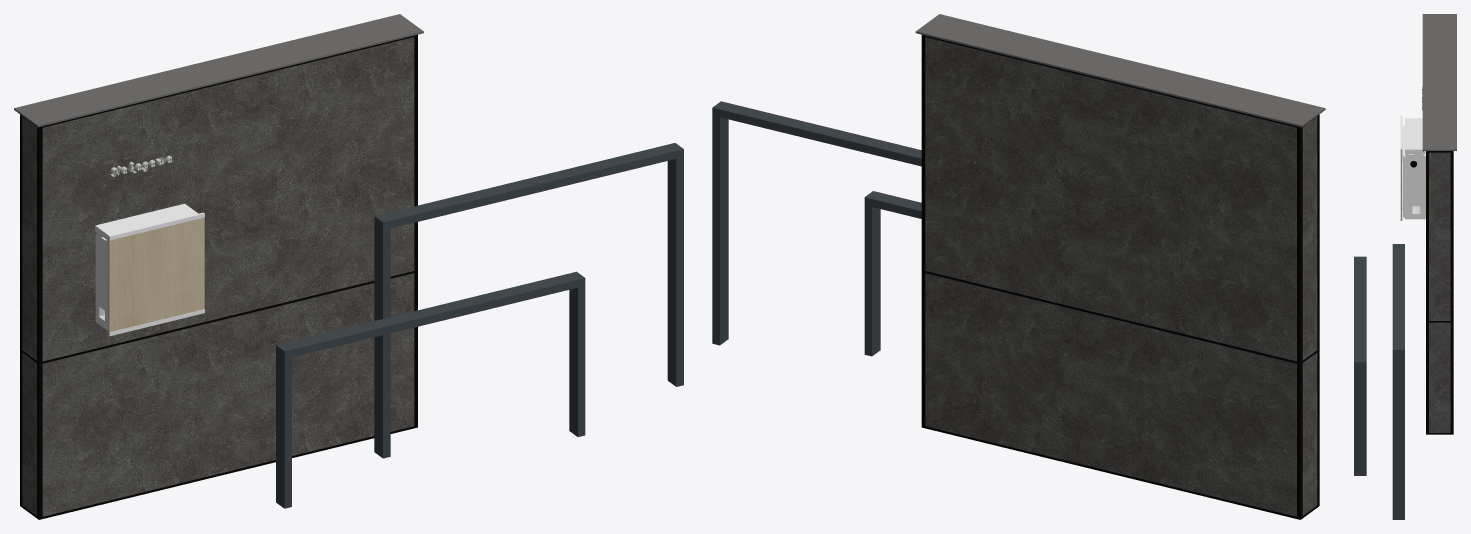
File: abc3-m_plasterblack.fbx
3 views of the same model, side by side, from view 1: azimuth 30°, elevation 25°; view 2: azimuth 150°, elevation 25°; view 3: azimuth 270°, elevation 25° (orthographic). The views are drawn at different scales.
Parts seen in each view (by area): view 1: abc3-m_plasterblack.002; view 2: abc3-m_plasterblack.002; view 3: abc3-m_plasterblack.002.
Boxes of the visible parts, x1,y1,x2,y2 form: abc3-m_plasterblack.002: (14, 14, 683, 519); abc3-m_plasterblack.002: (712, 14, 1325, 519); abc3-m_plasterblack.002: (1354, 14, 1456, 519).
Size of the model in its own units: 249 by 151 by 49.35.
Materials: 11 (5 with a texture image).
